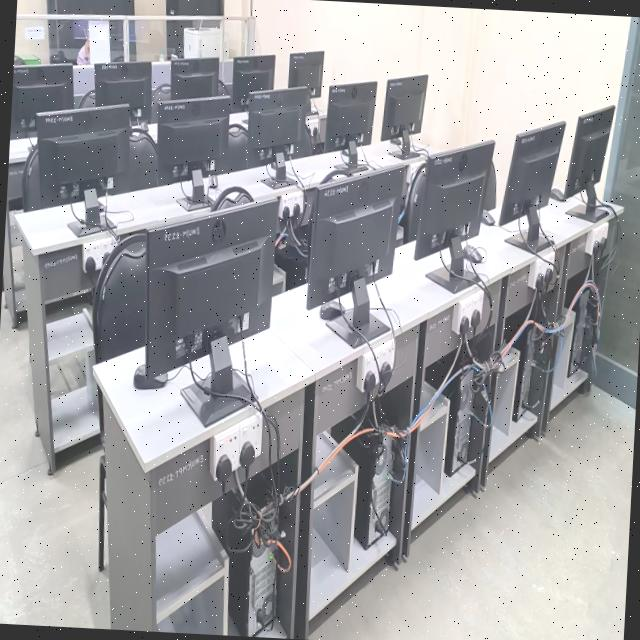Chair: (92, 233, 146, 362), (113, 128, 157, 192), (214, 124, 248, 184), (399, 164, 425, 242), (21, 144, 44, 210), (210, 186, 253, 210), (150, 82, 170, 122), (483, 162, 496, 209), (77, 88, 94, 108), (218, 79, 228, 95)
Cpu: (235, 478, 291, 636), (343, 396, 392, 547), (512, 324, 533, 420), (454, 369, 472, 465), (571, 294, 587, 370), (332, 413, 356, 440)
Monitor: (143, 199, 276, 378), (306, 165, 404, 308), (414, 139, 494, 276), (35, 104, 131, 206), (498, 121, 565, 242), (157, 95, 229, 183), (559, 105, 614, 198), (247, 87, 311, 165), (9, 64, 74, 137), (380, 74, 427, 156), (324, 81, 376, 150), (93, 60, 151, 119), (231, 54, 274, 111), (170, 56, 223, 97), (287, 49, 323, 96)
